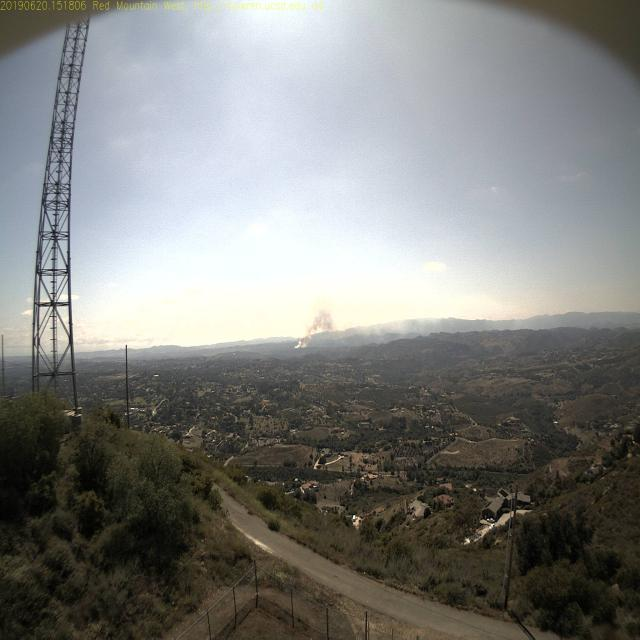smoke: (291, 306, 330, 359)
